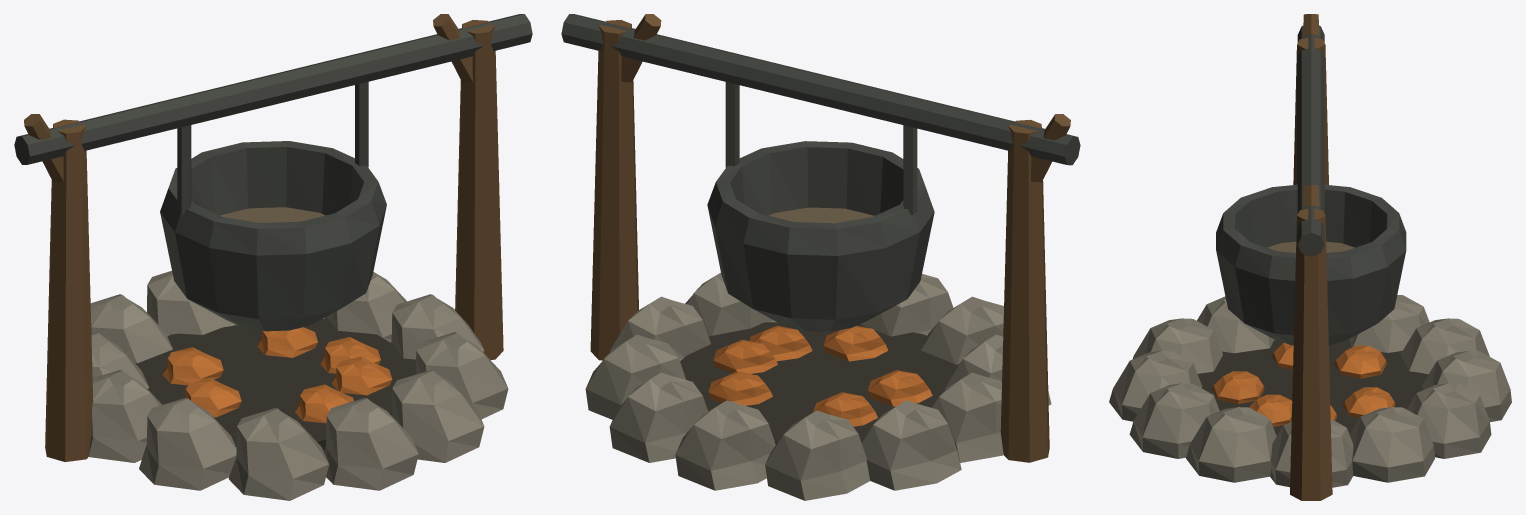
File: cooking-pit.glb
3 renders of one model, left to right at view 1: azimuth 30°, elevation 25°; view 2: azimuth 150°, elevation 25°; view 3: azimuth 270°, elevation 25°, orthographic. The views are drawn at different scales.
Visible parts, largest first — view 1: cooking-pit; view 2: cooking-pit; view 3: cooking-pit.
Part boxes in pixels (<box>): cooking-pit: <box>14,14,532,500</box>; cooking-pit: <box>561,14,1080,500</box>; cooking-pit: <box>1109,14,1511,500</box>.
Bounding box in the file's own units: 2.04 × 1.34 × 1.65.
